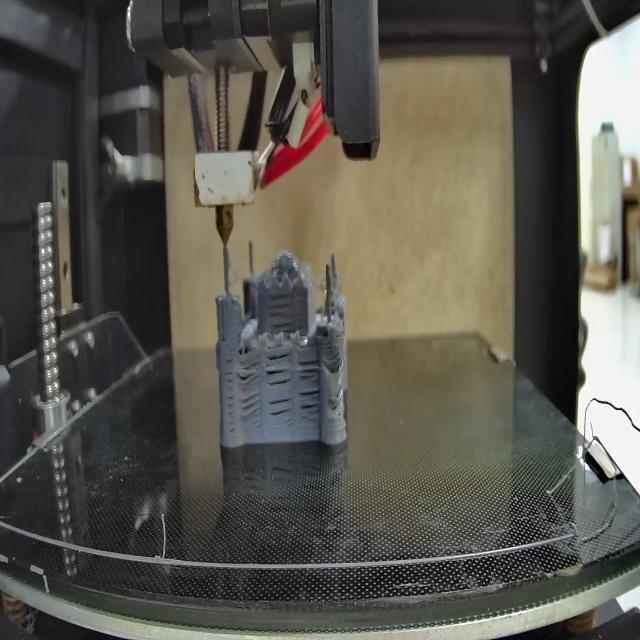cracks: (266, 283, 297, 334), (223, 354, 236, 435), (264, 349, 292, 385), (240, 393, 262, 425), (237, 354, 260, 384), (298, 388, 320, 418), (269, 393, 294, 418), (298, 352, 320, 380)
